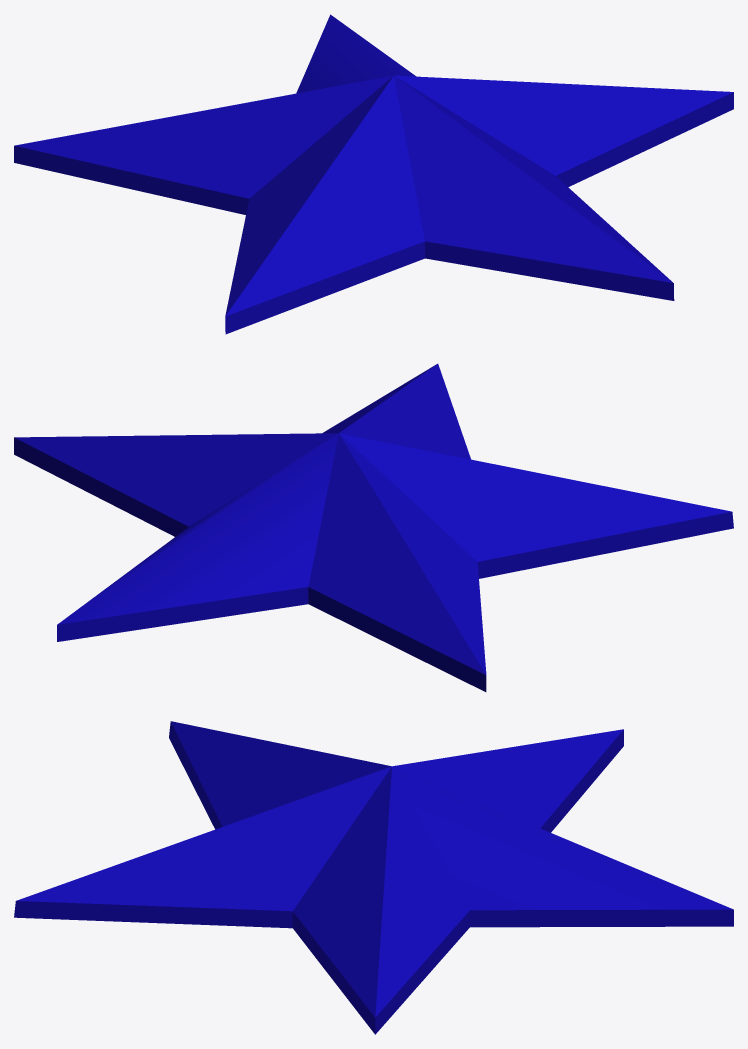
Rendered from star_blue_prototype.fbx.
3 renders of one model, top to bottom at view 1: azimuth 30°, elevation 25°; view 2: azimuth 150°, elevation 25°; view 3: azimuth 270°, elevation 25°, orthographic.
Visible parts, largest first — view 1: Box013; view 2: Box013; view 3: Box013.
Boxes of the visible parts, x1=… form: Box013: x1=14, y1=14, x2=733, y2=334; Box013: x1=14, y1=363, x2=733, y2=691; Box013: x1=14, y1=721, x2=733, y2=1034.
Size of the model in its own units: 8.82 by 1.49 by 9.04.
